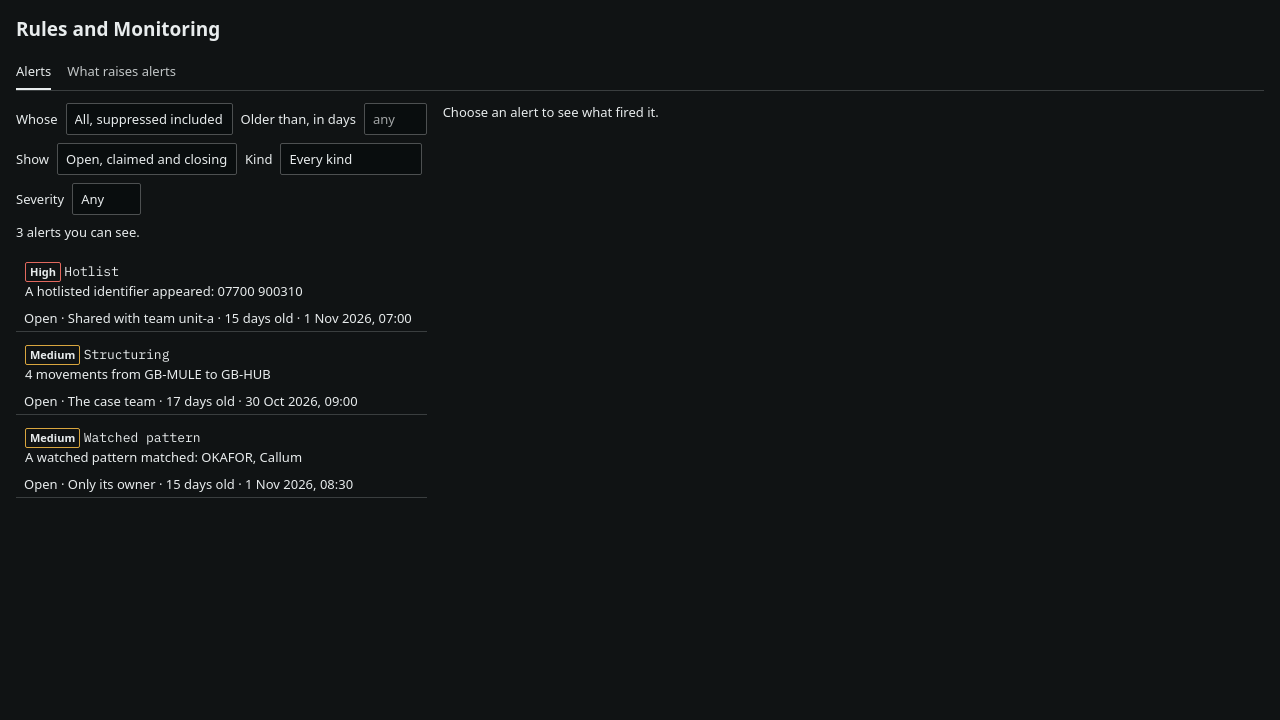
Test: Rules and Monitoring › says a hotlist alert's kind, severity and audience when it is opened
Click the button "High HotlistA hotlisted identifier appeared: 07700 900310".
click(221, 281)  # box [16,253,427,309]
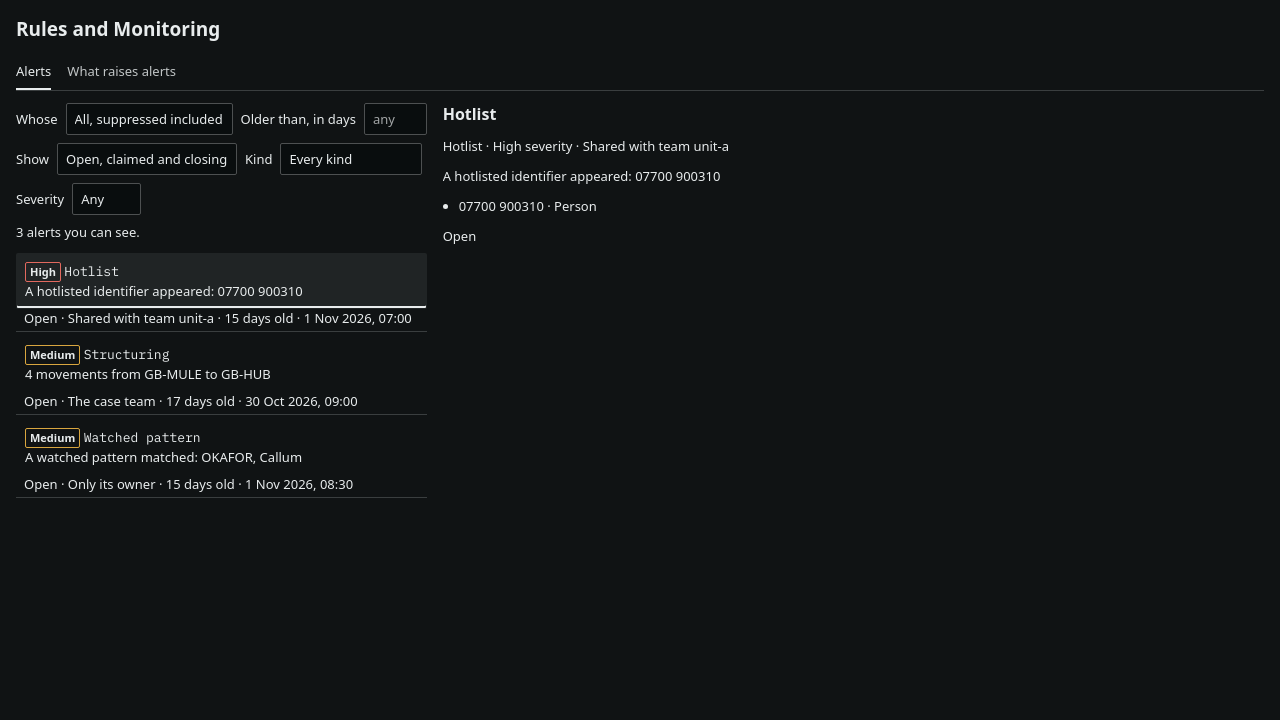
Expected: the text "Hotlist · High severity · Shared with team unit-a" is shown, [443,137,729,155]
Expected: the list named "What this alert concerns" shows "07700 900310", [459,197,597,215]
